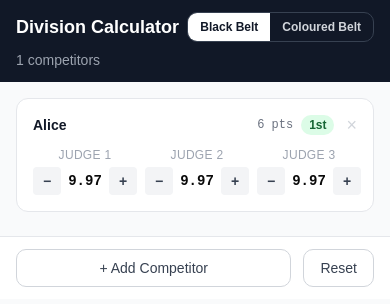
Test: CalculatorPage › − button (worse) increases displayed score
What coordinates should you click on to do the following:
click the button named "judge 1 worse"
I would click on:
 (47, 181)
Its box is [33,167,61,195].
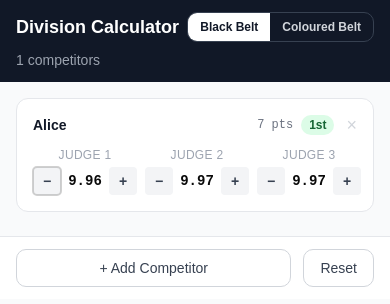
Expected: the text "9.96" is shown, [68,173,102,189]
